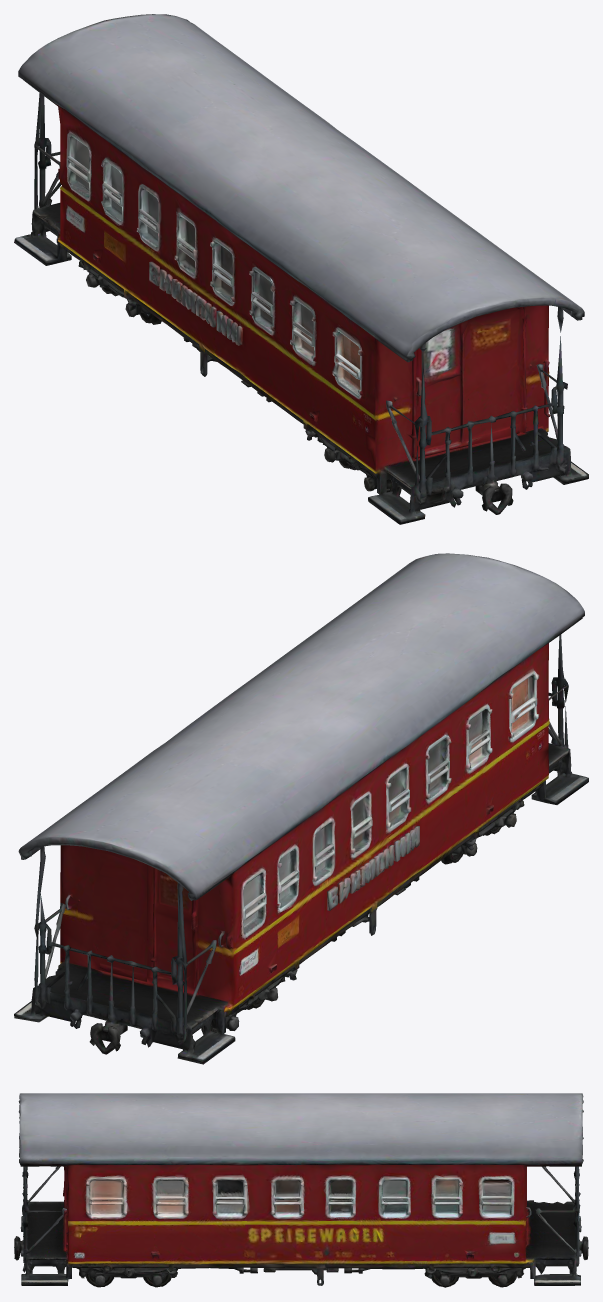
File: zsb_rot.glb
The picture shows the model from 3 angles, top to bottom: view 1: azimuth 30°, elevation 25°; view 2: azimuth 150°, elevation 25°; view 3: azimuth 270°, elevation 25°; orthographic projection. The views are drawn at different scales.
Visible parts, largest first — view 1: tripo_node_053e93b7-cc90-42e1-8d7a-0e47ee71adae; view 2: tripo_node_053e93b7-cc90-42e1-8d7a-0e47ee71adae; view 3: tripo_node_053e93b7-cc90-42e1-8d7a-0e47ee71adae.
Boxes of the visible parts, x1=… form: tripo_node_053e93b7-cc90-42e1-8d7a-0e47ee71adae: x1=14, y1=14, x2=588, y2=524; tripo_node_053e93b7-cc90-42e1-8d7a-0e47ee71adae: x1=14, y1=553, x2=588, y2=1064; tripo_node_053e93b7-cc90-42e1-8d7a-0e47ee71adae: x1=14, y1=1093, x2=588, y2=1287.
Bounding box in the file's own units: 0.2701 × 0.3027 × 0.9789.
1 material, 1 textured.
